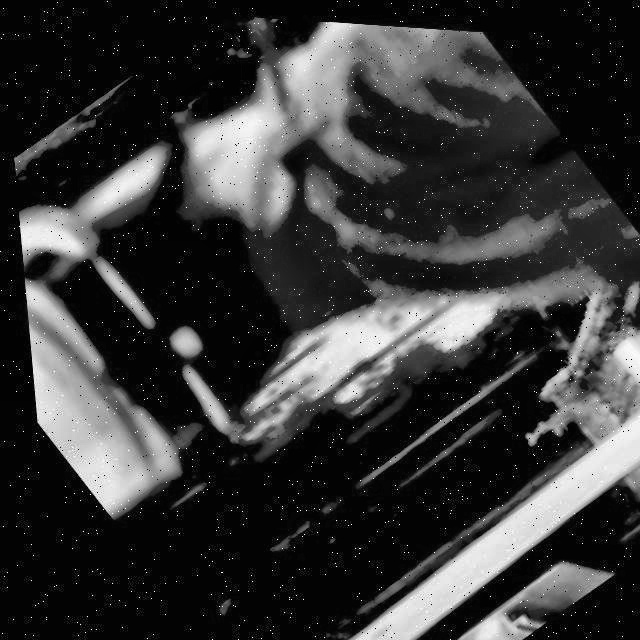Fire: (226, 234, 508, 472)
